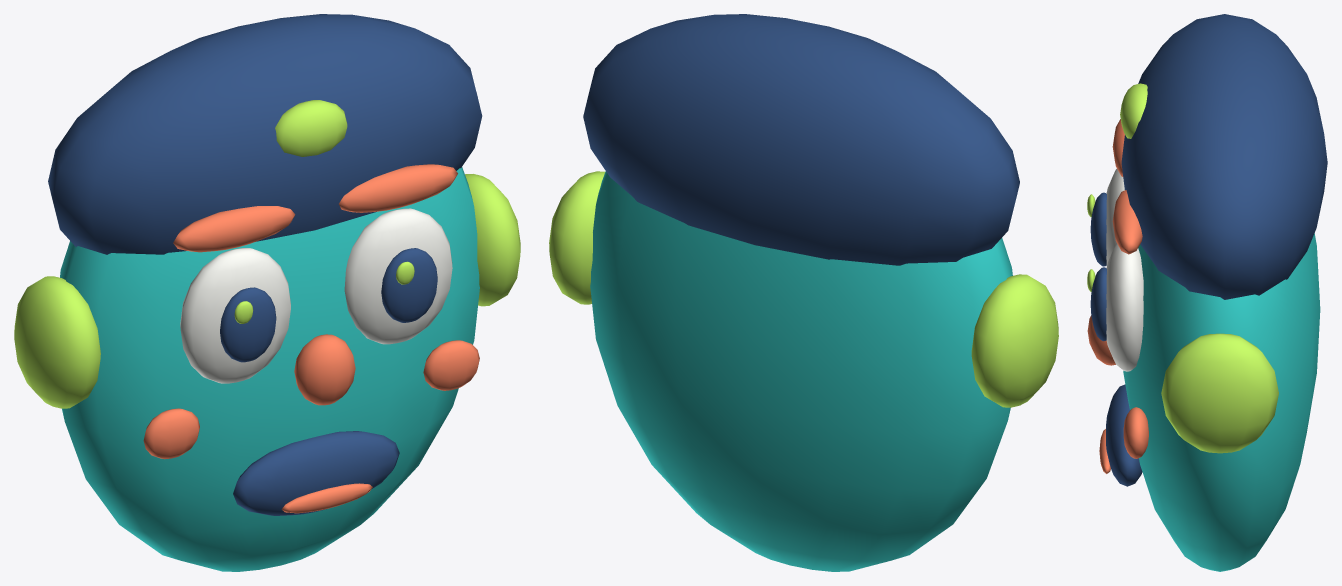
The picture shows the model from 3 angles, left to right: view 1: azimuth 30°, elevation 25°; view 2: azimuth 150°, elevation 25°; view 3: azimuth 270°, elevation 25°; orthographic projection. The views are drawn at different scales.
Parts seen in each view (by area): view 1: Face_Teal, Helmet_Navy, Ear_Lime (×2), Mouth_Navy, EyeWhite_Left, EyeWhite_Right, Cheek_Coral (×2), Brow_Left, Brow_Right, Nose_Coral, Forehead_Lime, Pupil_Right (+2 smaller); view 2: Face_Teal, Helmet_Navy, Ear_Lime (×2); view 3: Helmet_Navy, Face_Teal, Ear_Lime, EyeWhite_Right, Mouth_Navy, Brow_Right, Cheek_Coral, Forehead_Lime, Pupil_Right, Pupil_Left, EyeWhite_Left, Nose_Coral (+2 smaller).
Part boxes in pixels (x1=…): Face_Teal: x1=60, y1=167, x2=479, y2=571; Helmet_Navy: x1=48, y1=14, x2=482, y2=254; Ear_Lime (×2): x1=14, y1=174, x2=520, y2=408; Mouth_Navy: x1=233, y1=431, x2=399, y2=515; EyeWhite_Left: x1=180, y1=248, x2=290, y2=383; EyeWhite_Right: x1=344, y1=208, x2=452, y2=344; Cheek_Coral (×2): x1=143, y1=340, x2=479, y2=459; Brow_Left: x1=173, y1=206, x2=295, y2=252; Brow_Right: x1=339, y1=164, x2=457, y2=212; Nose_Coral: x1=294, y1=334, x2=355, y2=405; Forehead_Lime: x1=275, y1=100, x2=347, y2=156; Pupil_Right: x1=381, y1=248, x2=437, y2=322; Face_Teal: x1=590, y1=171, x2=1012, y2=571; Helmet_Navy: x1=583, y1=14, x2=1019, y2=265; Ear_Lime (×2): x1=549, y1=171, x2=1058, y2=407; Helmet_Navy: x1=1121, y1=14, x2=1327, y2=299; Face_Teal: x1=1123, y1=233, x2=1320, y2=571; Ear_Lime: x1=1161, y1=333, x2=1278, y2=453; EyeWhite_Right: x1=1106, y1=243, x2=1143, y2=371; Mouth_Navy: x1=1106, y1=384, x2=1142, y2=486; Brow_Right: x1=1112, y1=190, x2=1142, y2=254; Cheek_Coral: x1=1123, y1=407, x2=1148, y2=458; Forehead_Lime: x1=1120, y1=83, x2=1147, y2=138; Pupil_Right: x1=1090, y1=267, x2=1106, y2=341; Pupil_Left: x1=1090, y1=192, x2=1106, y2=266; EyeWhite_Left: x1=1106, y1=169, x2=1124, y2=266; Nose_Coral: x1=1087, y1=315, x2=1115, y2=365.
Size of the model in its own units: 1.8 by 1.89 by 0.8163.
